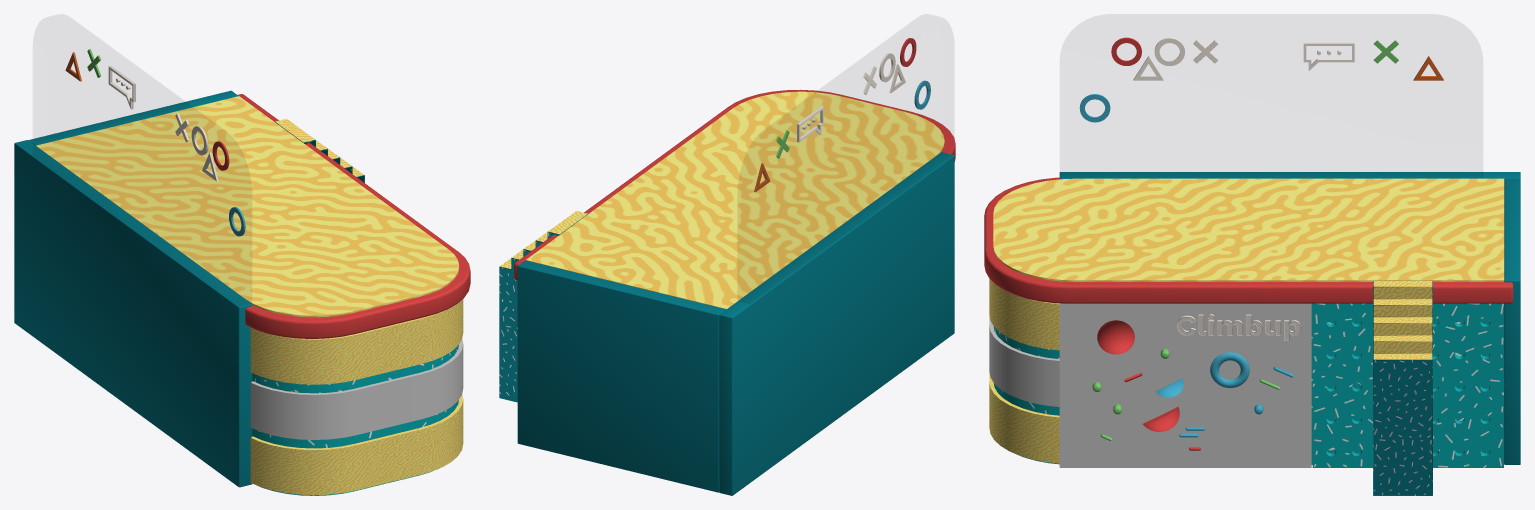
File: Duplex_Big.FBX
3 views of the same model, side by side, from view 1: azimuth 30°, elevation 25°; view 2: azimuth 150°, elevation 25°; view 3: azimuth 270°, elevation 25° (orthographic). The views are drawn at different scales.
Visible parts, largest first — view 1: Duplex_Big; view 2: Duplex_Big; view 3: Duplex_Big.
Part boxes in pixels (x1,y1,x2,y2): Duplex_Big: [14, 49, 470, 495]; Duplex_Big: [499, 38, 955, 495]; Duplex_Big: [984, 37, 1520, 495].
Bounding box in the file's own units: 324 × 372 × 527.
